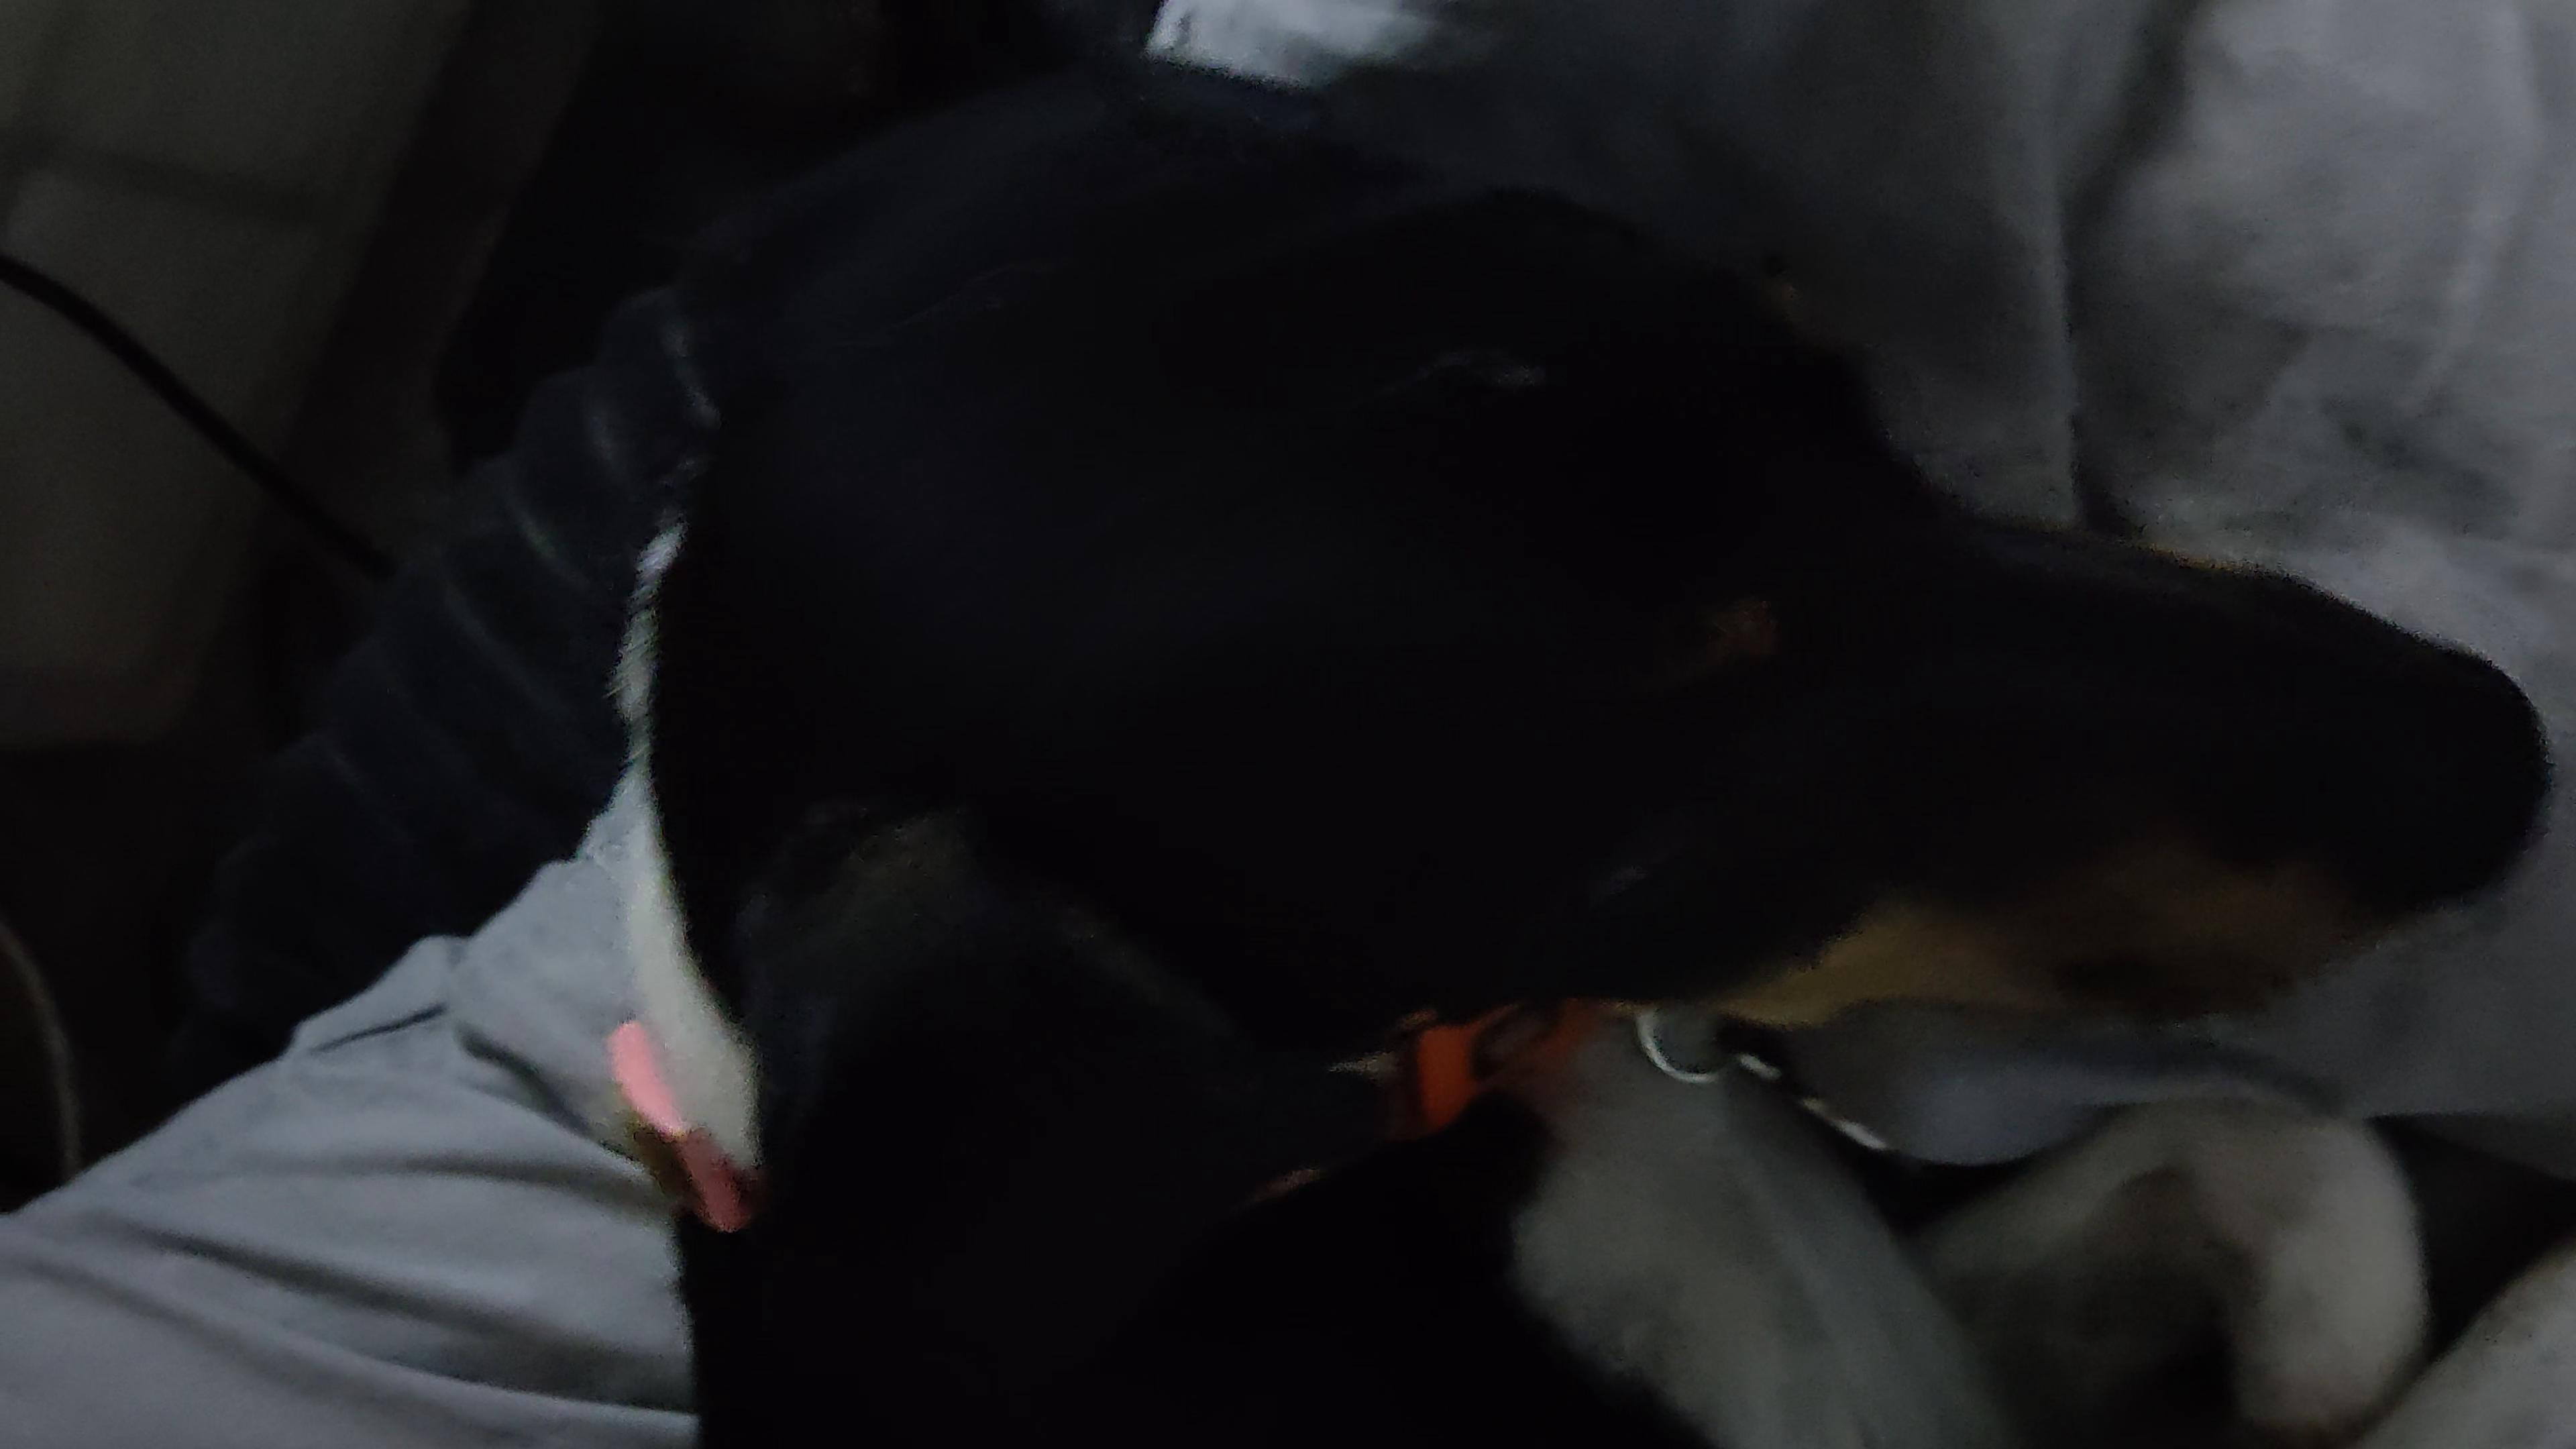Dog: (469, 0, 2572, 1449)
